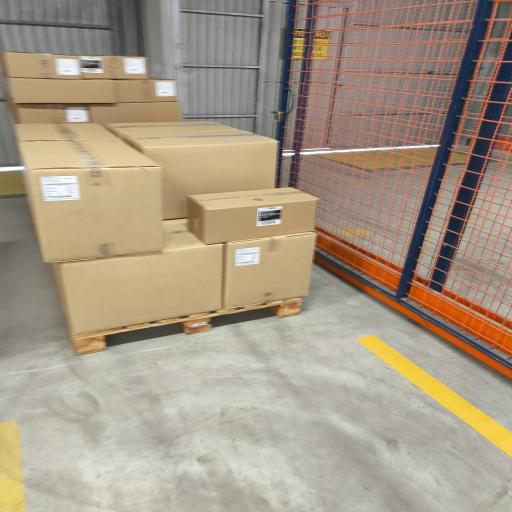pallet: (71, 299, 302, 354)
